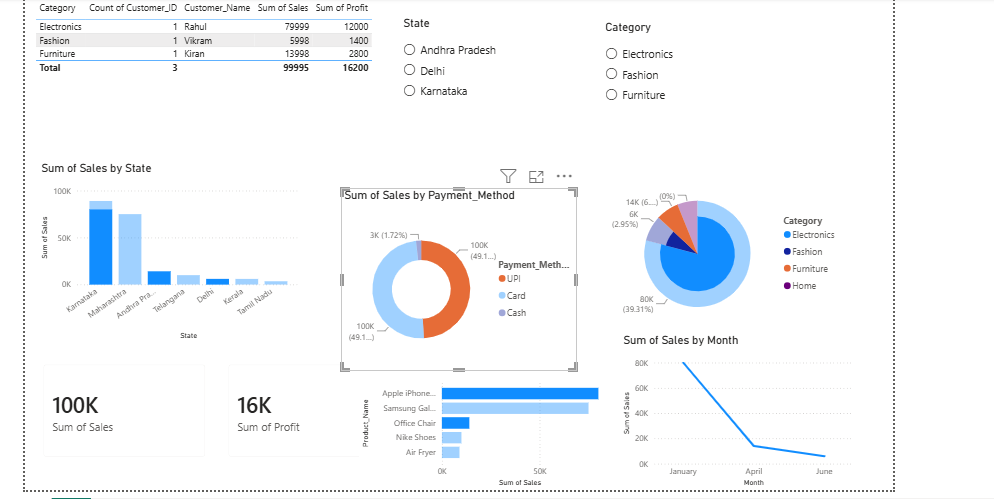

What the dashboard file says about the page in this screenshot:
{"tool":"powerbi","page":{"name":"Page 1","canvas":[1287,730],"ordinal":0},"visuals":[{"type":"tableEx","fields":{"Values":["AmazonSales.Category","CountNonNull(AmazonSales.Customer_ID)","AmazonSales.Customer_Name","Sum(AmazonSales.Sales)","Sum(AmazonSales.Profit)"]},"box":[9.9,0,546.9,241.2],"z":0},{"type":"lineClusteredColumnComboChart","fields":{"Category":["AmazonSales.State"],"Y":["Sum(AmazonSales.Sales)"]},"box":[19.8,241.2,393.2,269.3],"z":1000},{"type":"cardVisual","fields":{"Data":["Sum(AmazonSales.Sales)"]},"box":[9.9,527,274.3,171.8],"z":2000},{"type":"cardVisual","fields":{"Data":["Sum(AmazonSales.Profit)"]},"box":[284.2,527,257.7,171.8],"z":3000},{"type":"pieChart","fields":{"Category":["AmazonSales.Category"],"Y":["Sum(AmazonSales.Sales)"]},"box":[865.7,208.2,350.2,313.9],"z":4000},{"type":"donutChart","fields":{"Category":["AmazonSales.Payment_Method"],"Y":["Sum(AmazonSales.Sales)"]},"box":[469.2,282.5,350.2,270.9],"z":5000},{"type":"listSlicer","fields":{"Values":["AmazonSales.State"]},"box":[556.8,26.4,254.4,256.1],"z":6000},{"type":"listSlicer","fields":{"Values":["AmazonSales.Category"]},"box":[855.8,33,431.2,204.9],"z":6001},{"type":"barChart","fields":{"Category":["AmazonSales.Product_Name"],"Y":["Sum(AmazonSales.Sales)"]},"box":[495.6,527,370.1,203.2],"z":6002},{"type":"lineChart","fields":{"Category":["AmazonSales.Order_Date.Variation.Date Hierarchy.Year","AmazonSales.Order_Date.Variation.Date Hierarchy.Quarter","AmazonSales.Order_Date.Variation.Date Hierarchy.Month","AmazonSales.Order_Date.Variation.Date Hierarchy.Day"],"Y":["Sum(AmazonSales.Sales)"]},"box":[882.2,497.3,350.2,232.9],"z":6003}]}

Visuals, with their boxes on the page's 1287x730 design canvas (x1, y1, x2, y2). These are canvas units, not pixel positions in the 994x499 screenshot, which may show the page scaled, cropped or inside an application window:
tableEx - AmazonSales.Category x CountNonNull(AmazonSales.Customer_ID): Rect(10, 0, 557, 241)
lineClusteredColumnComboChart - AmazonSales.State x Sum(AmazonSales.Sales): Rect(20, 241, 413, 510)
cardVisual - Sum(AmazonSales.Sales): Rect(10, 527, 284, 699)
cardVisual - Sum(AmazonSales.Profit): Rect(284, 527, 542, 699)
pieChart - AmazonSales.Category x Sum(AmazonSales.Sales): Rect(866, 208, 1216, 522)
donutChart - AmazonSales.Payment_Method x Sum(AmazonSales.Sales): Rect(469, 282, 819, 553)
listSlicer - AmazonSales.State: Rect(557, 26, 811, 282)
listSlicer - AmazonSales.Category: Rect(856, 33, 1287, 238)
barChart - AmazonSales.Product_Name x Sum(AmazonSales.Sales): Rect(496, 527, 866, 730)
lineChart - AmazonSales.Order_Date.Variation.Date Hierarchy.Year x AmazonSales.Order_Date.Variation.Date Hierarchy.Quarter: Rect(882, 497, 1232, 730)
